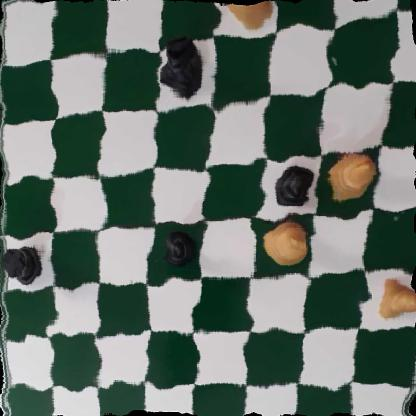black-king: (160, 34, 206, 107)
black-pawn: (272, 162, 316, 210), (156, 228, 195, 269)
black-rook: (3, 238, 47, 284)
white-bishop: (324, 145, 381, 206)
white-king: (258, 212, 311, 267)
white-pawn: (369, 277, 416, 323)
white-rook: (227, 0, 279, 31)
